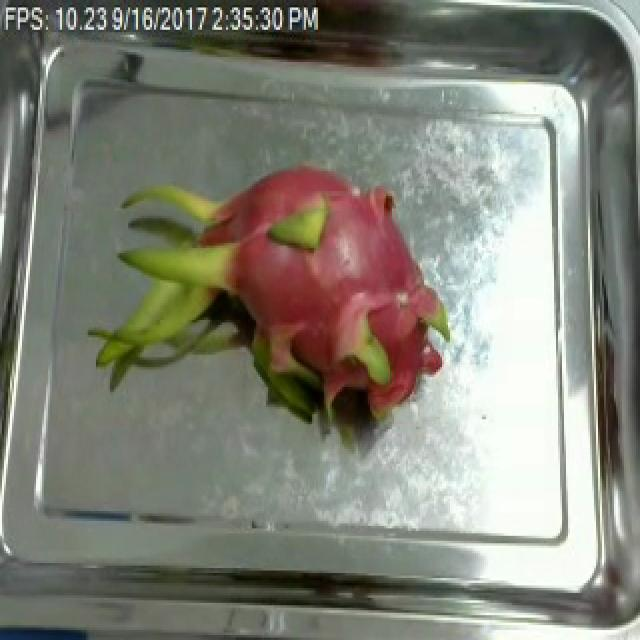fruit: (78, 134, 460, 471)
